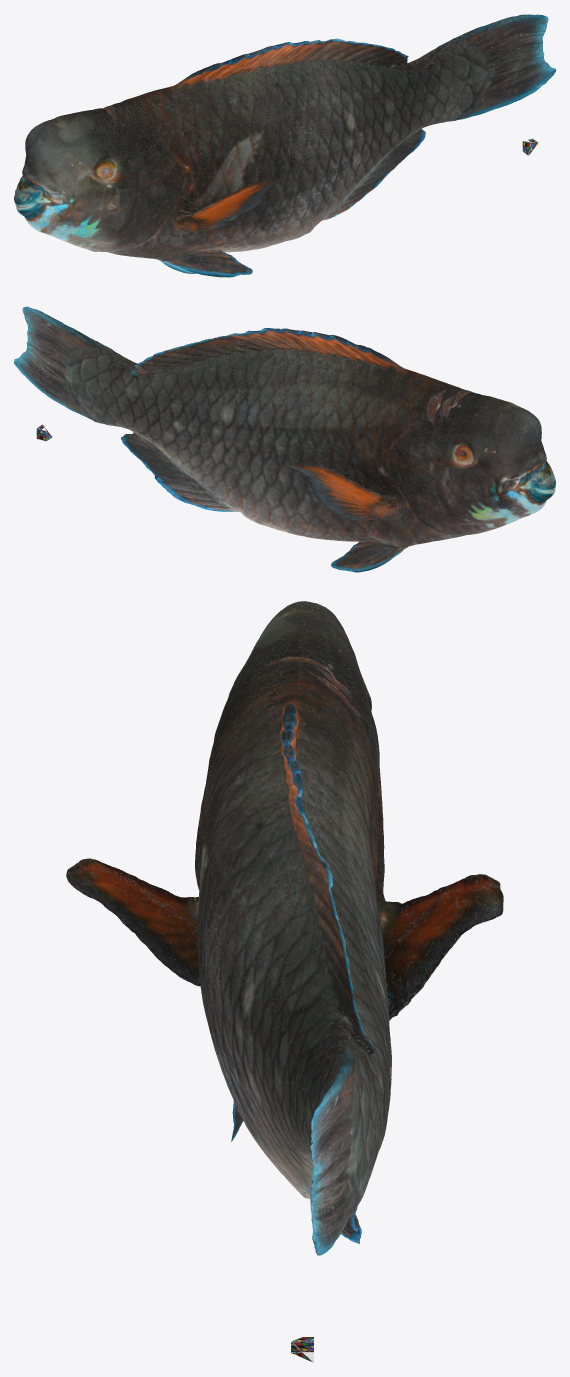
The model's file is knobsnout_parrotfish.glb.
3 renders of one model, top to bottom at view 1: azimuth 30°, elevation 25°; view 2: azimuth 150°, elevation 25°; view 3: azimuth 270°, elevation 25°, orthographic. The views are drawn at different scales.
Parts seen in each view (by area): view 1: Q12037-1all-1s_5; view 2: Q12037-1all-1s_5; view 3: Q12037-1all-1s_5.
Boxes of the visible parts, box(x1,y1,x2,y2) form: Q12037-1all-1s_5: box(14, 14, 555, 277); Q12037-1all-1s_5: box(14, 306, 555, 572); Q12037-1all-1s_5: box(66, 601, 503, 1255).
Size of the model in its own units: 24 by 9.38 by 8.47.
Materials: 4 (4 with a texture image).
